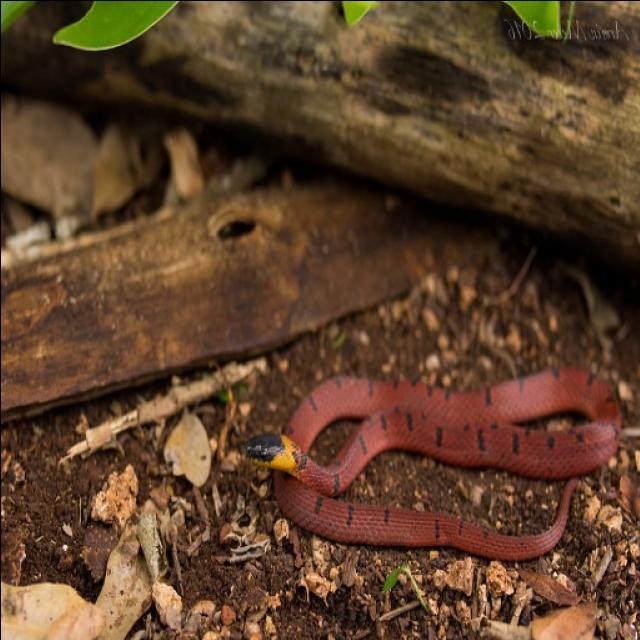snake: (227, 350, 624, 579)
